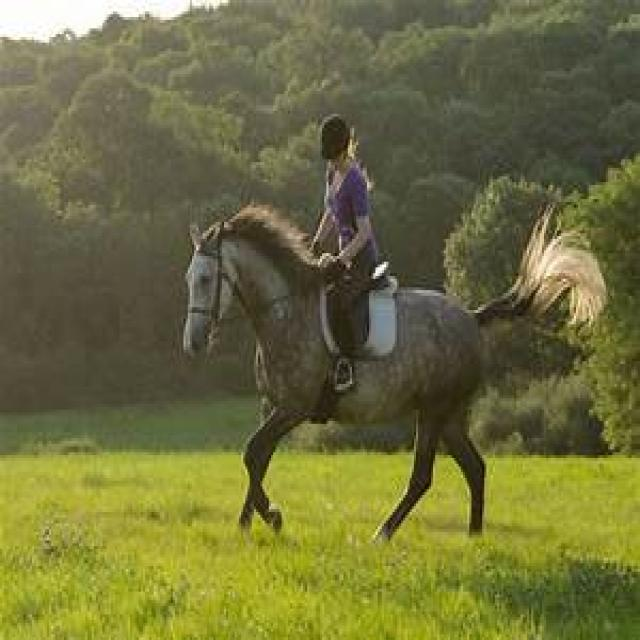horse: (181, 205, 486, 543)
